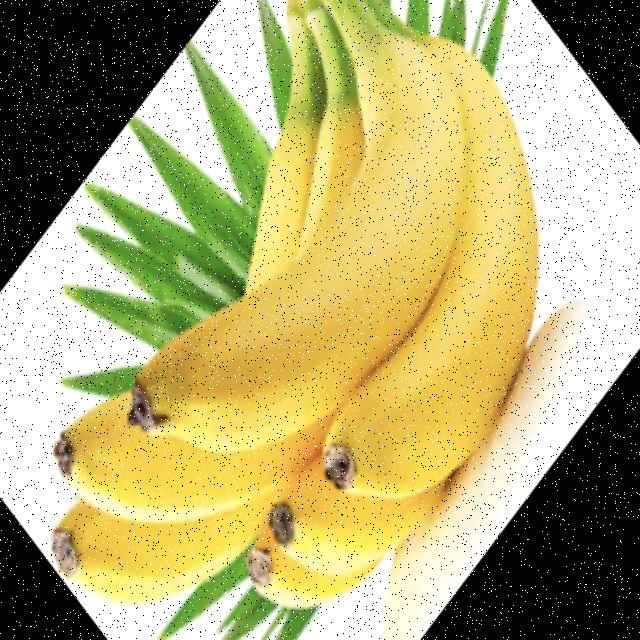god quality banana: (53, 1, 540, 609)
